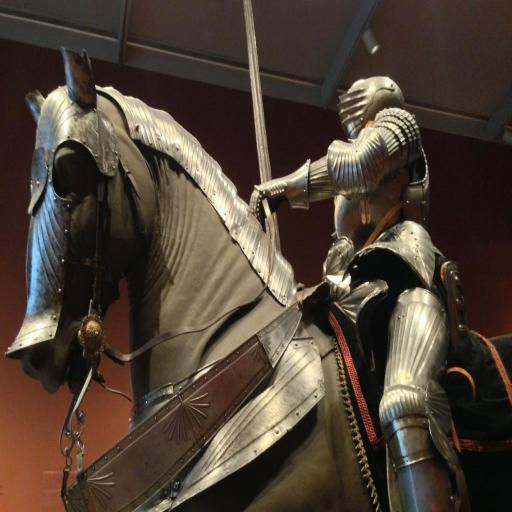horse: (20, 45, 512, 512)
